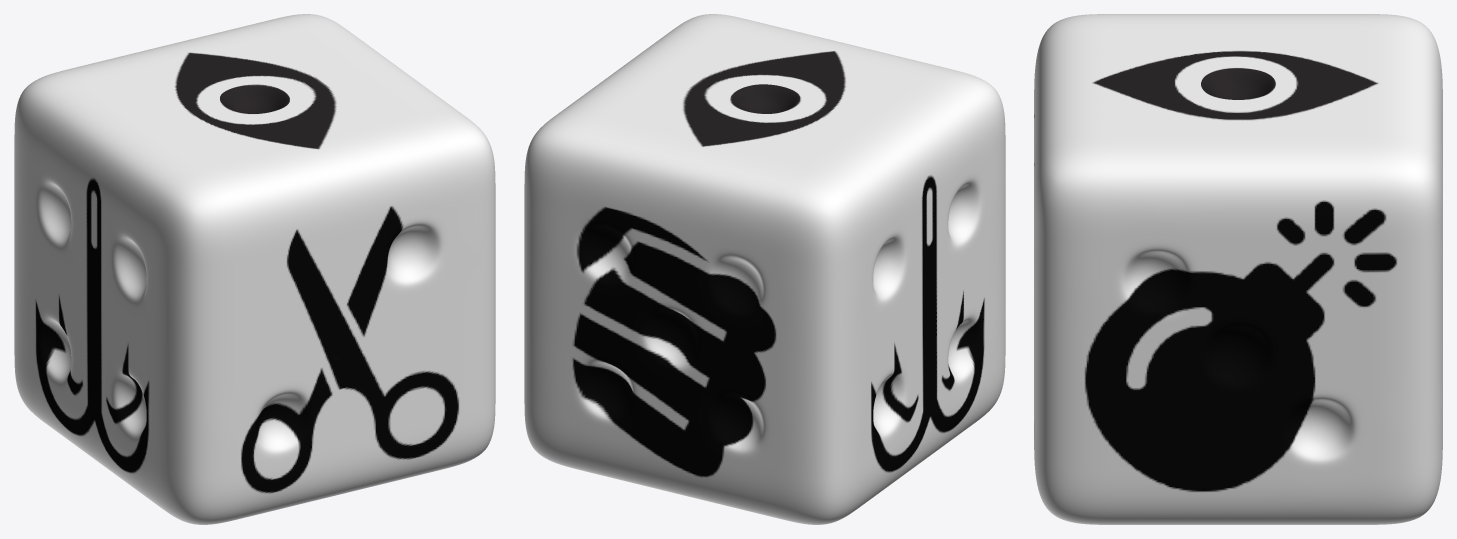
Rendered from Dice ver 2.fbx.
3 views of the same model, side by side, from view 1: azimuth 30°, elevation 25°; view 2: azimuth 150°, elevation 25°; view 3: azimuth 270°, elevation 25° (orthographic). The views are drawn at different scales.
Visible parts, largest first — view 1: Cube; view 2: Cube; view 3: Cube.
Boxes of the visible parts, x1,y1,x2,y2 form: Cube: (14,14,495,524); Cube: (524,14,1005,524); Cube: (1034,14,1442,524).
Size of the model in its own units: 100 by 100 by 100.
